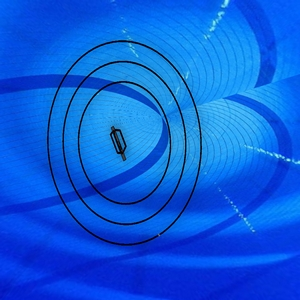circle: (45, 36, 212, 250)
submarine: (104, 120, 137, 166)
